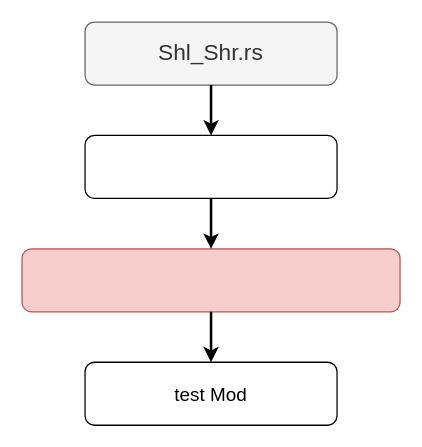
The diagram is 422 pixels wide and 447 high, and some of its shapes have lost their labels. Each missing label, with the centre of its shape:
ExecutionGadget for ShlShrGadget Impl: point (210, 280)
ShlShrGadget Struct: point (210, 166)
